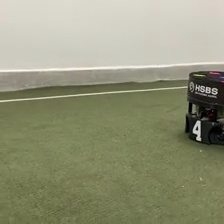robot: (183, 70, 224, 146)
